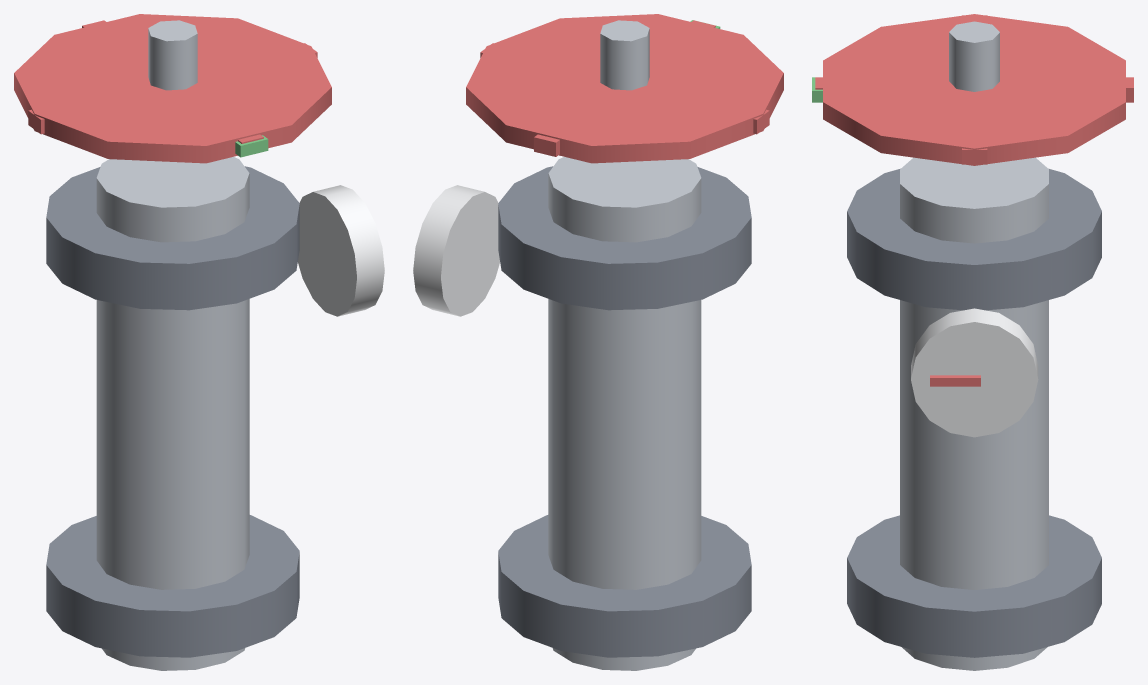
File: prop_valve_wheel.glb
3 views of the same model, side by side, from view 1: azimuth 30°, elevation 25°; view 2: azimuth 150°, elevation 25°; view 3: azimuth 270°, elevation 25° (orthographic).
Parts seen in each view (by area): view 1: prop_valve_wheel, valve_wheel, pressure_gauge; view 2: prop_valve_wheel, valve_wheel, pressure_gauge; view 3: prop_valve_wheel, valve_wheel, pressure_gauge, gauge_needle.
Boxes of the visible parts, left/top/right/bottom form: prop_valve_wheel: left=46, top=157, right=299, bottom=670; valve_wheel: left=14, top=14, right=331, bottom=163; pressure_gauge: left=298, top=185, right=384, bottom=316; prop_valve_wheel: left=498, top=157, right=751, bottom=670; valve_wheel: left=466, top=14, right=783, bottom=163; pressure_gauge: left=413, top=185, right=499, bottom=316; prop_valve_wheel: left=847, top=157, right=1101, bottom=670; valve_wheel: left=815, top=14, right=1133, bottom=165; pressure_gauge: left=911, top=308, right=1038, bottom=437; gauge_needle: left=930, top=375, right=980, bottom=386.
Bounding box in the file's own units: 0.585 × 1.05 × 0.505.
